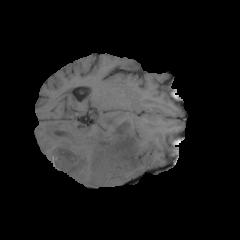glioma: (43, 110, 142, 187)
